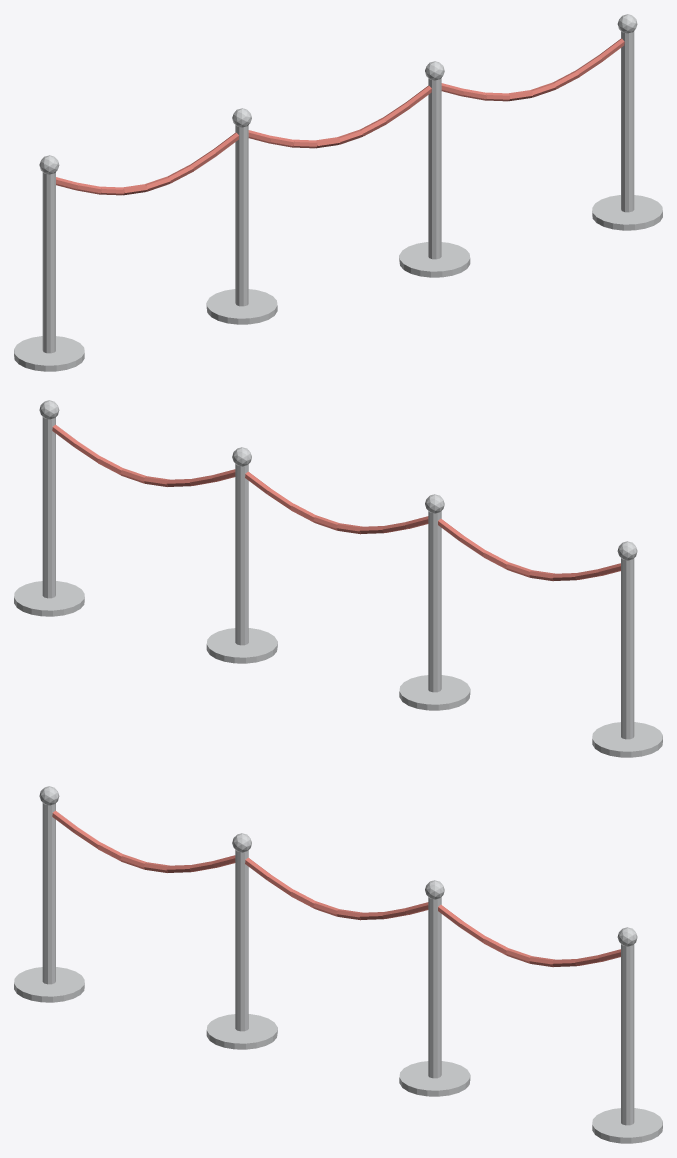
Rendered from queue_posts.glb.
3 renders of one model, top to bottom at view 1: azimuth 30°, elevation 25°; view 2: azimuth 150°, elevation 25°; view 3: azimuth 330°, elevation 25°, orthographic.
Visible parts, largest first — view 1: queue_posts_chrome, queue_posts_red; view 2: queue_posts_chrome, queue_posts_red; view 3: queue_posts_chrome, queue_posts_red.
Boxes of the visible parts, x1,y1,x2,y2 form: queue_posts_chrome: (14, 14, 662, 371); queue_posts_red: (56, 38, 624, 195); queue_posts_chrome: (14, 400, 662, 757); queue_posts_red: (52, 424, 620, 581); queue_posts_chrome: (14, 786, 662, 1143); queue_posts_red: (52, 810, 620, 967).
Size of the model in its own units: 3.32 by 0.995 by 0.32.
